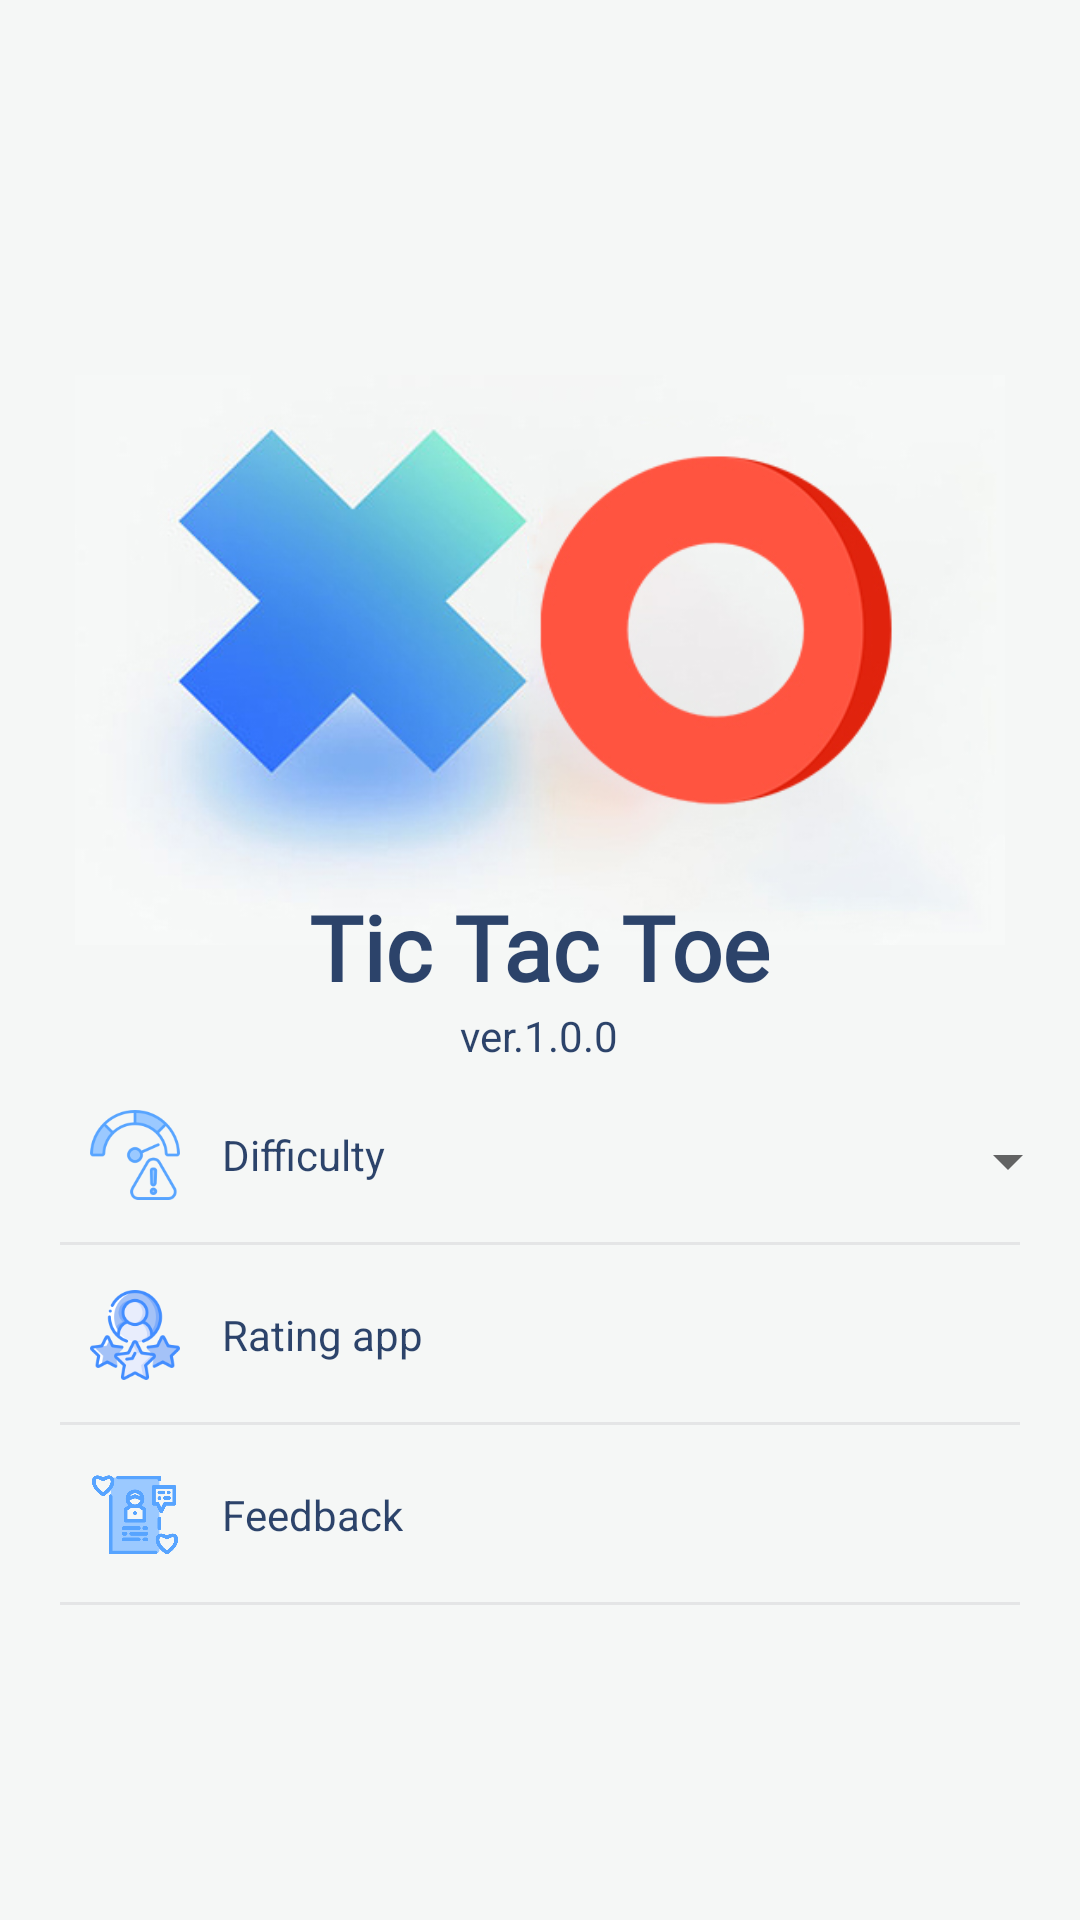

Icon bounding boxes for this 1080 × 1920 phone screenshot, format Rect(x1, y1, x2, y2):
star: Rect(90, 1290, 180, 1380)
